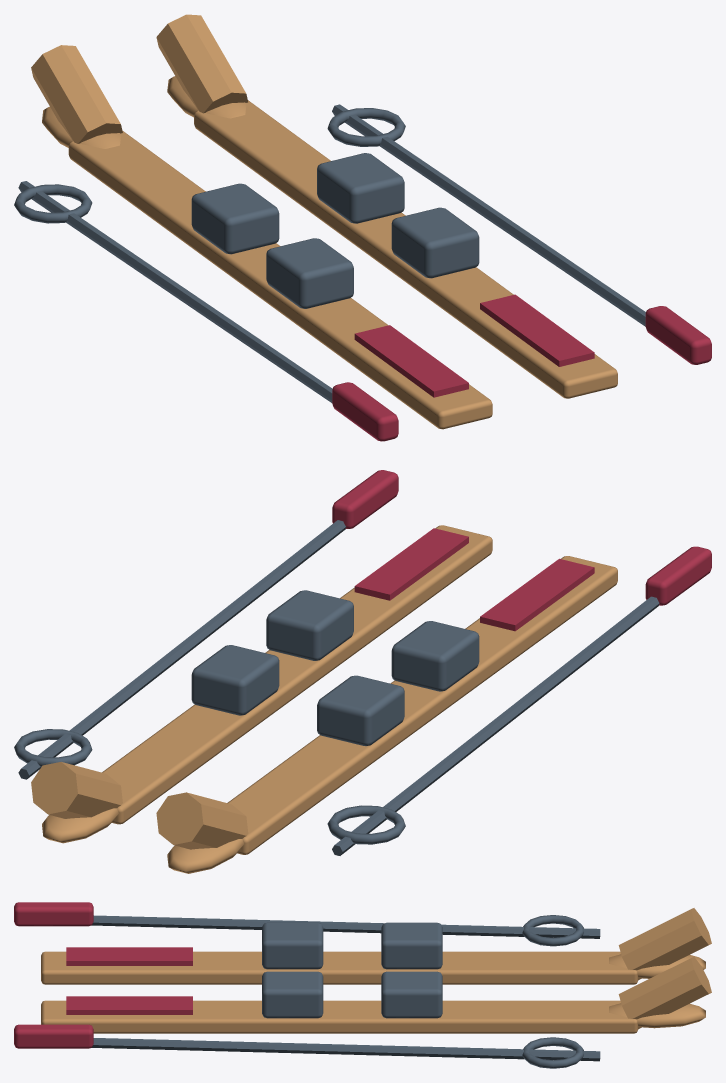
File: alpine-snow-village-alpine-skis-and-poles-3d6f9279__19815.glb
The picture shows the model from 3 angles, top to bottom: view 1: azimuth 30°, elevation 25°; view 2: azimuth 150°, elevation 25°; view 3: azimuth 270°, elevation 25°; orthographic projection. The views are drawn at different scales.
Parts seen in each view (by area): view 1: alpine-skis-and-poles-oak, alpine-skis-and-poles-iron, alpine-skis-and-poles-berry; view 2: alpine-skis-and-poles-oak, alpine-skis-and-poles-iron, alpine-skis-and-poles-berry; view 3: alpine-skis-and-poles-oak, alpine-skis-and-poles-iron, alpine-skis-and-poles-berry.
Boxes of the visible parts, box(x1,y1,x2,y2) form: alpine-skis-and-poles-oak: box(31, 14, 617, 429); alpine-skis-and-poles-iron: box(14, 104, 645, 402); alpine-skis-and-poles-berry: box(332, 294, 711, 441); alpine-skis-and-poles-oak: box(31, 525, 617, 873); alpine-skis-and-poles-iron: box(14, 520, 659, 855); alpine-skis-and-poles-berry: box(332, 470, 711, 631); alpine-skis-and-poles-oak: box(41, 908, 711, 1033); alpine-skis-and-poles-iron: box(92, 915, 600, 1068); alpine-skis-and-poles-berry: box(14, 902, 192, 1048).
Size of the model in its own units: 0.974 by 0.2152 by 1.93.
